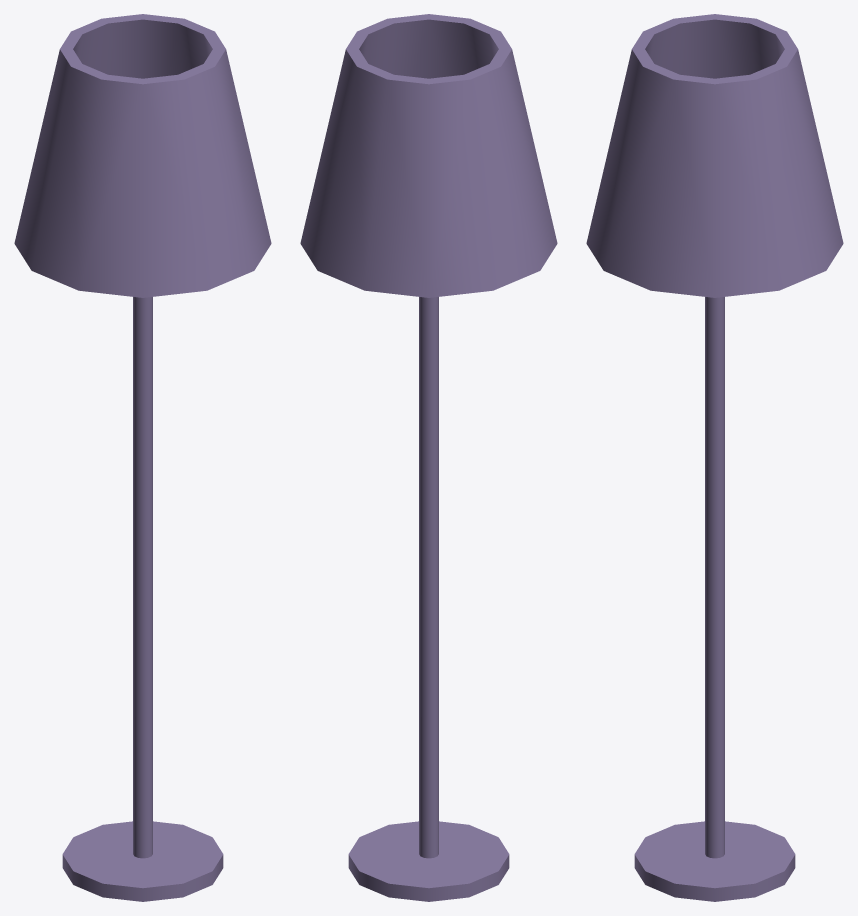
File: FloorLamp.fbx
3 views of the same model, side by side, from view 1: azimuth 30°, elevation 25°; view 2: azimuth 150°, elevation 25°; view 3: azimuth 270°, elevation 25° (orthographic).
Parts seen in each view (by area): view 1: polySurface22, pSphere2; view 2: polySurface22, pSphere2; view 3: polySurface22, pSphere2.
Part boxes in pixels (left/top/right/bottom): polySurface22: left=14, top=14, right=271, bottom=297; pSphere2: left=62, top=297, right=223, bottom=901; polySurface22: left=300, top=14, right=557, bottom=297; pSphere2: left=348, top=297, right=509, bottom=901; polySurface22: left=586, top=14, right=843, bottom=297; pSphere2: left=634, top=297, right=795, bottom=901.
Size of the model in its own units: 1.55 by 5.45 by 1.55.
